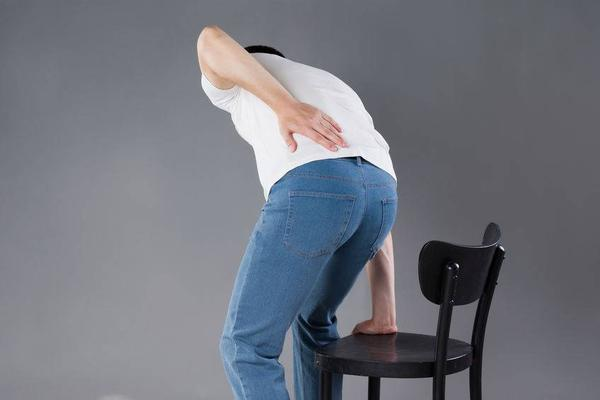bending: (189, 25, 398, 400)
